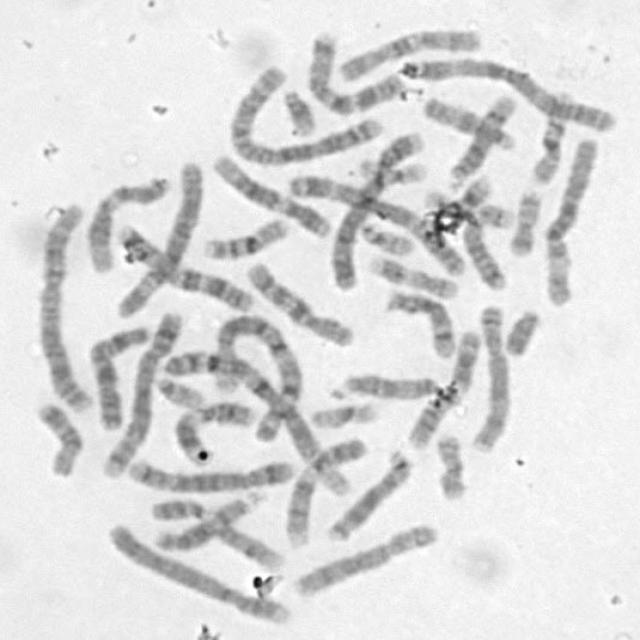A1: (157, 341, 360, 498), (207, 311, 304, 443)
A2: (224, 61, 384, 167), (32, 198, 96, 416)
A3: (283, 167, 472, 278), (398, 51, 621, 134)
B4: (102, 517, 294, 627), (324, 128, 426, 292)
B5: (95, 305, 190, 481), (123, 453, 298, 493)
C10: (242, 256, 356, 351), (335, 23, 484, 83)
C11: (404, 326, 484, 451), (169, 396, 258, 465)
C12: (206, 147, 335, 239), (79, 170, 172, 275)
C6: (110, 155, 207, 319), (537, 130, 603, 308)
C7: (111, 216, 257, 312), (301, 26, 407, 115)
C8: (287, 516, 443, 600), (466, 298, 514, 456)
C9: (146, 494, 288, 572), (278, 431, 367, 549)
D13: (322, 445, 414, 543), (151, 487, 262, 554)
D14: (442, 88, 520, 188), (379, 286, 457, 361)
D15: (418, 92, 519, 150), (326, 368, 442, 404)
E16: (198, 210, 296, 262), (528, 85, 576, 186)
E17: (361, 248, 462, 300), (418, 188, 513, 231)
E18: (30, 396, 86, 478), (461, 216, 506, 292)
F19: (305, 395, 382, 431), (353, 153, 429, 185)
F20: (429, 425, 469, 502), (504, 185, 546, 258)
G21: (276, 83, 320, 137), (478, 199, 517, 234)
G22: (356, 218, 416, 258), (152, 369, 209, 410)
X: (80, 321, 152, 431)
Y: (499, 302, 544, 358)
